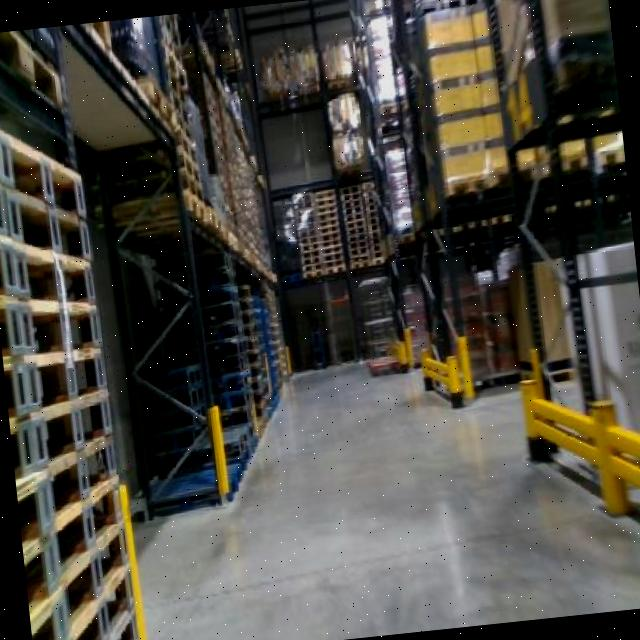pallet: (0, 103, 102, 219), (0, 230, 110, 335), (0, 183, 106, 279), (0, 288, 106, 367), (1, 334, 111, 406), (5, 373, 115, 444), (211, 414, 266, 470), (144, 354, 206, 393)
